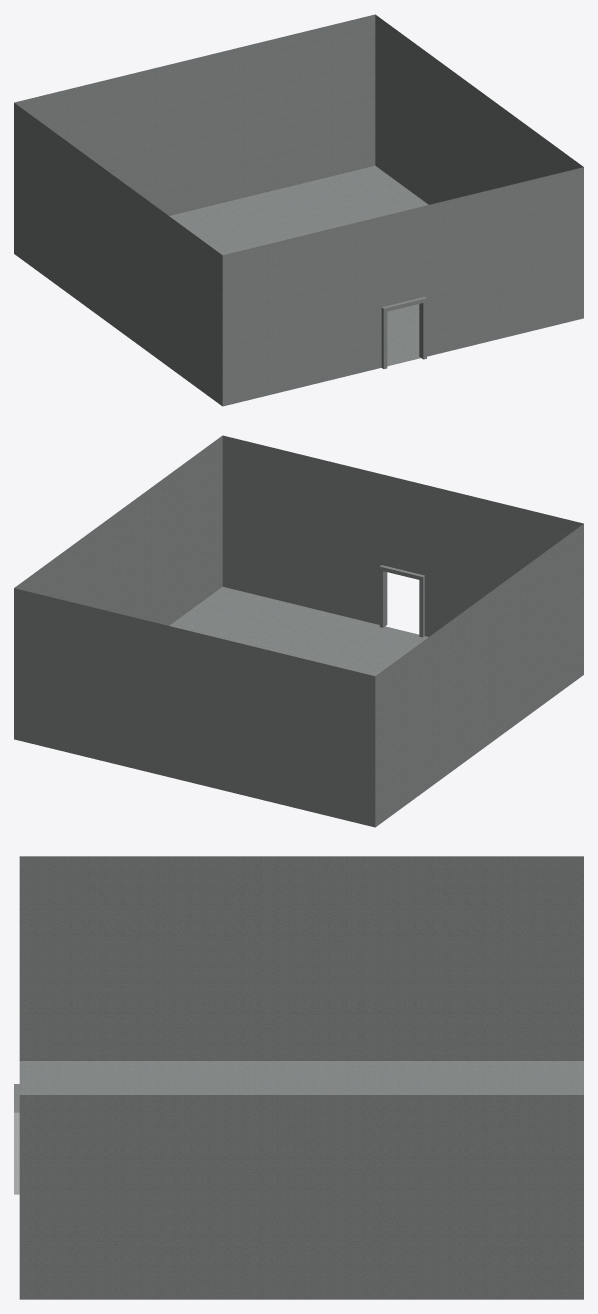
File: Room Test 1.fbx
The picture shows the model from 3 angles, top to bottom: view 1: azimuth 30°, elevation 25°; view 2: azimuth 150°, elevation 25°; view 3: azimuth 270°, elevation 25°; orthographic projection. The views are drawn at different scales.
Parts seen in each view (by area): view 1: Model; view 2: Model; view 3: Model.
Part boxes in pixels (x1=…): Model: x1=14, y1=14, x2=583, y2=406; Model: x1=14, y1=435, x2=583, y2=827; Model: x1=14, y1=856, x2=583, y2=1299.
Size of the model in its own units: 20 by 8 by 20.2.
